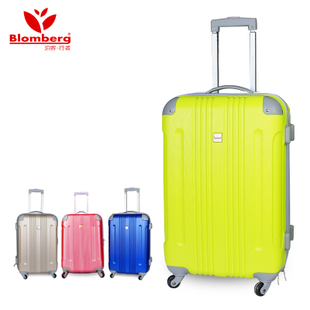luggage: (159, 16, 299, 297), (105, 186, 154, 281), (60, 185, 109, 280), (12, 186, 61, 281)
